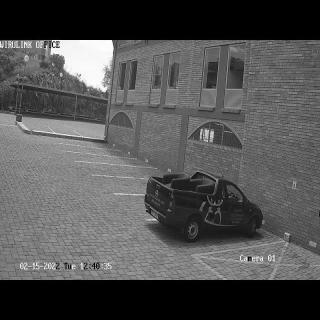car: (144, 169, 264, 240)
